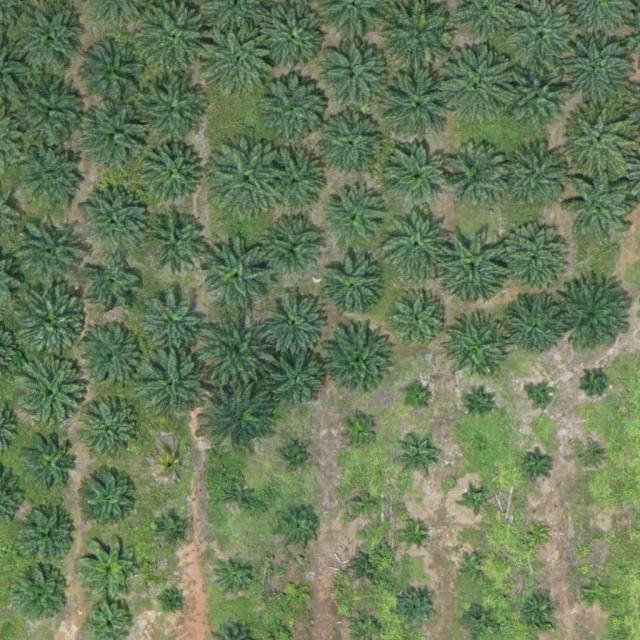Healthy: (12, 72, 90, 151), (202, 27, 280, 106), (251, 71, 329, 150), (315, 40, 393, 119), (381, 69, 459, 148), (503, 4, 581, 83), (558, 36, 636, 115), (436, 227, 514, 306), (379, 206, 457, 285), (207, 141, 285, 220), (198, 309, 276, 388), (203, 379, 281, 458), (441, 48, 519, 126), (559, 278, 637, 356), (11, 283, 89, 361), (11, 358, 89, 436), (14, 217, 85, 288), (15, 5, 85, 76), (567, 104, 637, 175), (566, 170, 637, 240), (440, 317, 510, 388), (322, 329, 392, 400), (260, 285, 330, 356), (204, 235, 274, 306), (140, 352, 210, 423), (80, 187, 151, 257), (16, 144, 87, 214), (82, 37, 152, 107), (137, 78, 207, 148), (497, 224, 567, 294), (387, 148, 450, 211), (317, 114, 380, 177), (142, 291, 205, 354), (82, 257, 145, 320), (79, 325, 142, 388), (503, 293, 565, 356), (507, 146, 569, 209), (444, 146, 506, 209), (387, 289, 449, 352), (325, 187, 387, 250), (264, 145, 326, 208), (265, 217, 328, 279), (140, 142, 203, 204), (146, 209, 208, 272), (85, 107, 148, 169), (78, 534, 140, 597), (320, 255, 382, 317), (509, 72, 564, 128), (86, 405, 141, 461), (271, 354, 326, 409), (82, 466, 137, 521), (14, 566, 69, 621), (22, 508, 77, 563), (26, 438, 81, 493), (345, 485, 385, 525)
Small: (338, 412, 378, 452), (398, 588, 438, 628), (279, 509, 318, 549), (216, 558, 255, 598), (397, 441, 437, 480), (219, 477, 258, 517), (521, 591, 560, 630), (465, 602, 496, 634), (352, 553, 383, 585), (400, 517, 431, 549), (277, 441, 308, 473), (283, 578, 314, 610), (158, 515, 189, 546), (465, 388, 496, 419), (523, 450, 554, 481), (583, 577, 614, 608), (460, 552, 491, 583), (403, 385, 434, 416), (584, 369, 608, 393), (526, 523, 550, 547), (465, 489, 489, 513), (532, 385, 555, 409), (580, 447, 603, 471), (588, 527, 611, 551), (167, 594, 183, 610)
Yellow: (159, 452, 190, 483)
